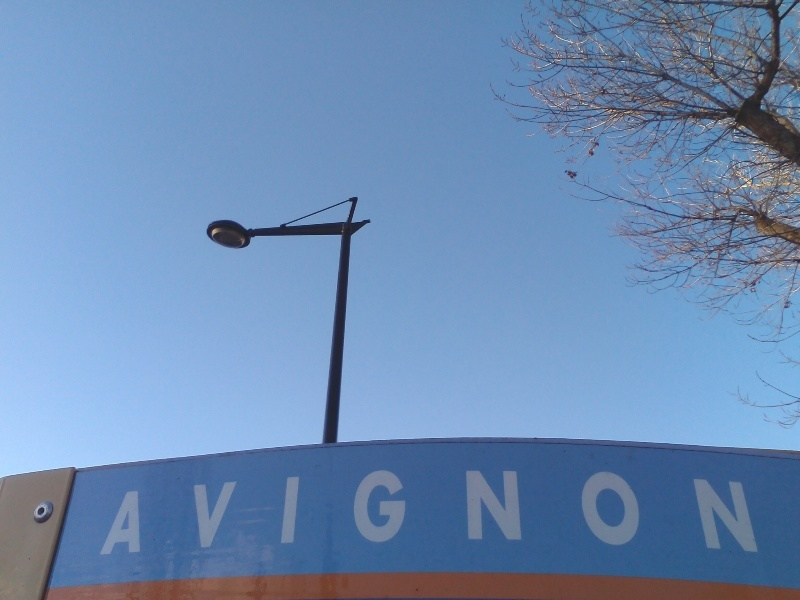text: (145, 467, 160, 558), (161, 467, 176, 558), (177, 467, 192, 558), (193, 467, 208, 558), (209, 467, 224, 558), (225, 467, 240, 558), (241, 467, 256, 558), (257, 467, 272, 558), (273, 467, 288, 558), (289, 467, 304, 558), (305, 467, 320, 558), (321, 467, 336, 558), (337, 467, 352, 558), (353, 467, 368, 558), (369, 467, 384, 558), (385, 467, 400, 558), (401, 467, 416, 558), (417, 467, 432, 558), (433, 467, 448, 558), (449, 467, 464, 558), (465, 467, 480, 558), (481, 467, 496, 558), (497, 467, 512, 558), (513, 467, 528, 558), (529, 467, 544, 558), (545, 467, 560, 558), (561, 467, 576, 558), (577, 467, 592, 558), (593, 467, 608, 558), (609, 467, 624, 558), (625, 467, 640, 558), (641, 467, 656, 558), (657, 467, 672, 558), (673, 467, 688, 558), (689, 467, 704, 558), (705, 467, 720, 558), (721, 467, 736, 558), (737, 467, 752, 558), (131, 467, 144, 558), (753, 467, 762, 558)
